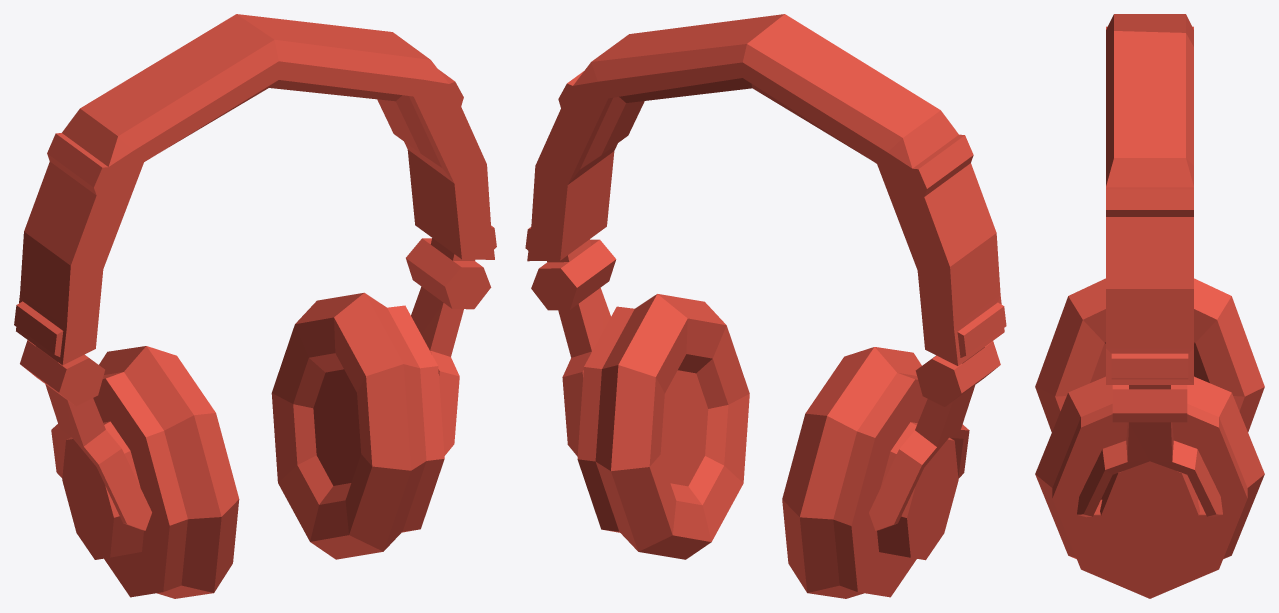
Rendered from SM_Headphones_Prop_Movie.fbx.
The picture shows the model from 3 angles, left to right: view 1: azimuth 30°, elevation 25°; view 2: azimuth 150°, elevation 25°; view 3: azimuth 270°, elevation 25°; orthographic projection. The views are drawn at different scales.
Visible parts, largest first — view 1: SM_Headphones_Prop_Movie; view 2: SM_Headphones_Prop_Movie; view 3: SM_Headphones_Prop_Movie.
Boxes of the visible parts, box(x1,y1,x2,y2) form: SM_Headphones_Prop_Movie: box(14, 14, 496, 598); SM_Headphones_Prop_Movie: box(525, 14, 1006, 598); SM_Headphones_Prop_Movie: box(1035, 14, 1264, 598).
Size of the model in its own units: 9.17 by 19.23 by 23.
